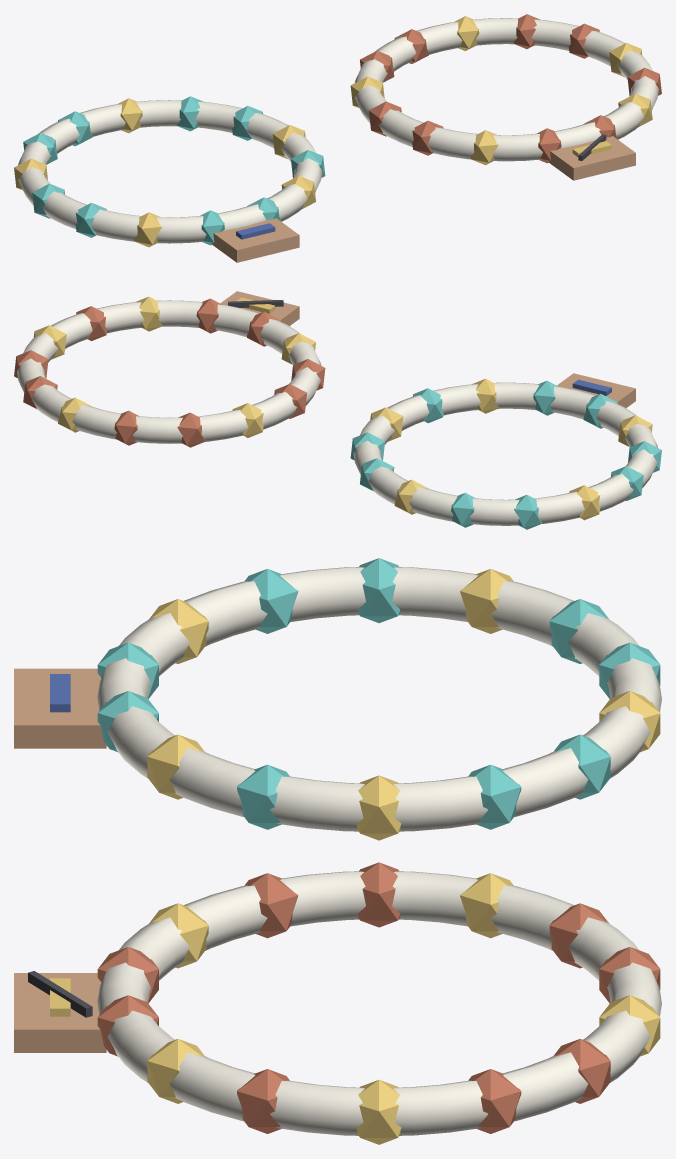
The model's file is prop_n06.glb.
The picture shows the model from 3 angles, top to bottom: view 1: azimuth 30°, elevation 25°; view 2: azimuth 150°, elevation 25°; view 3: azimuth 270°, elevation 25°; orthographic projection. The views are drawn at different scales.
Parts seen in each view (by area): view 1: Prop_N06; view 2: Prop_N06; view 3: Prop_N06.
Part boxes in pixels (x1,y1,x2,y2): Prop_N06: [14, 14, 661, 262]; Prop_N06: [14, 291, 661, 529]; Prop_N06: [14, 558, 661, 1144].
Size of the model in its own units: 2.53 by 0.14 by 1.26.
